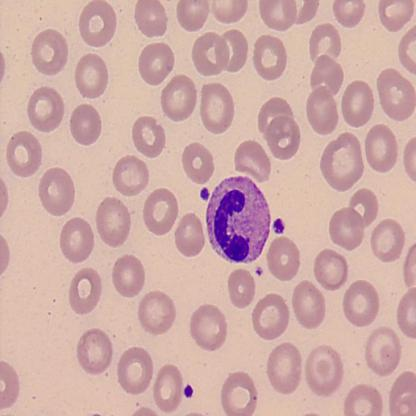Band Neutrophil: (203, 172, 273, 266)
